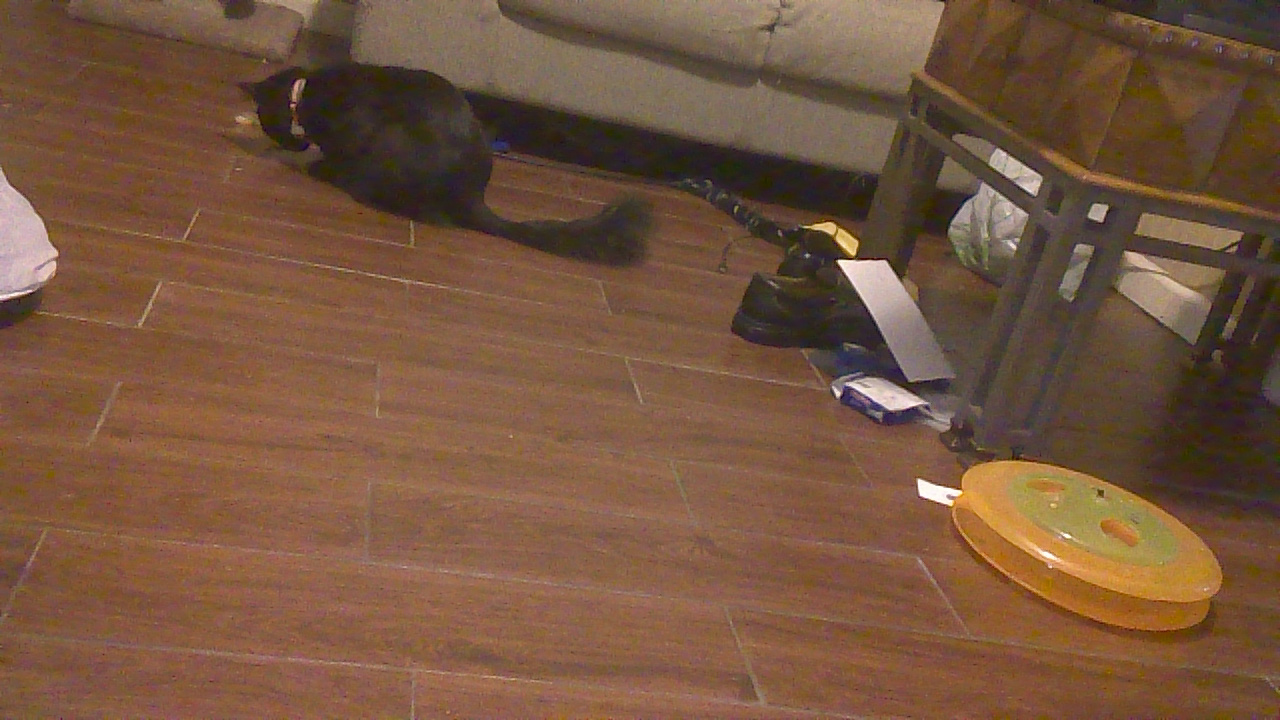cat: (225, 54, 661, 269)
